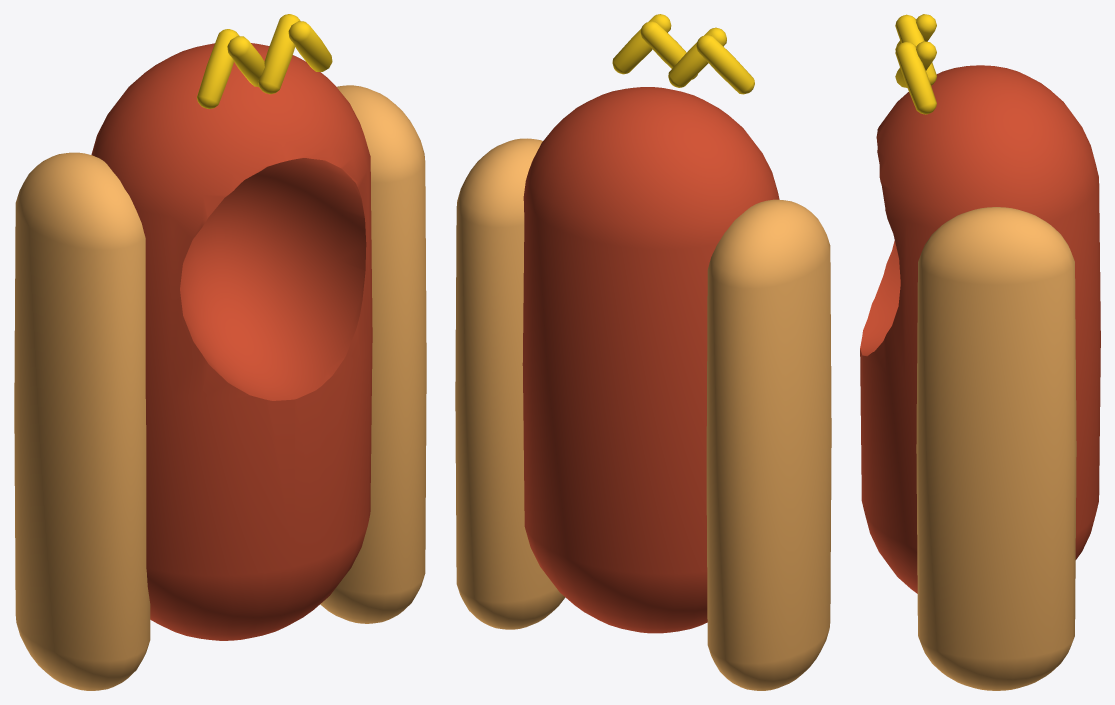
Rendered from costume_hotdog.glb.
The picture shows the model from 3 angles, left to right: view 1: azimuth 30°, elevation 25°; view 2: azimuth 150°, elevation 25°; view 3: azimuth 270°, elevation 25°; orthographic projection. The views are drawn at different scales.
Visible parts, largest first — view 1: Costume_Hotdog; view 2: Costume_Hotdog; view 3: Costume_Hotdog.
Boxes of the visible parts, x1=… form: Costume_Hotdog: x1=14, y1=14, x2=426, y2=690; Costume_Hotdog: x1=455, y1=14, x2=831, y2=690; Costume_Hotdog: x1=860, y1=14, x2=1100, y2=690.
Bounding box in the file's own units: 0.748 × 1.23 × 0.4498.
